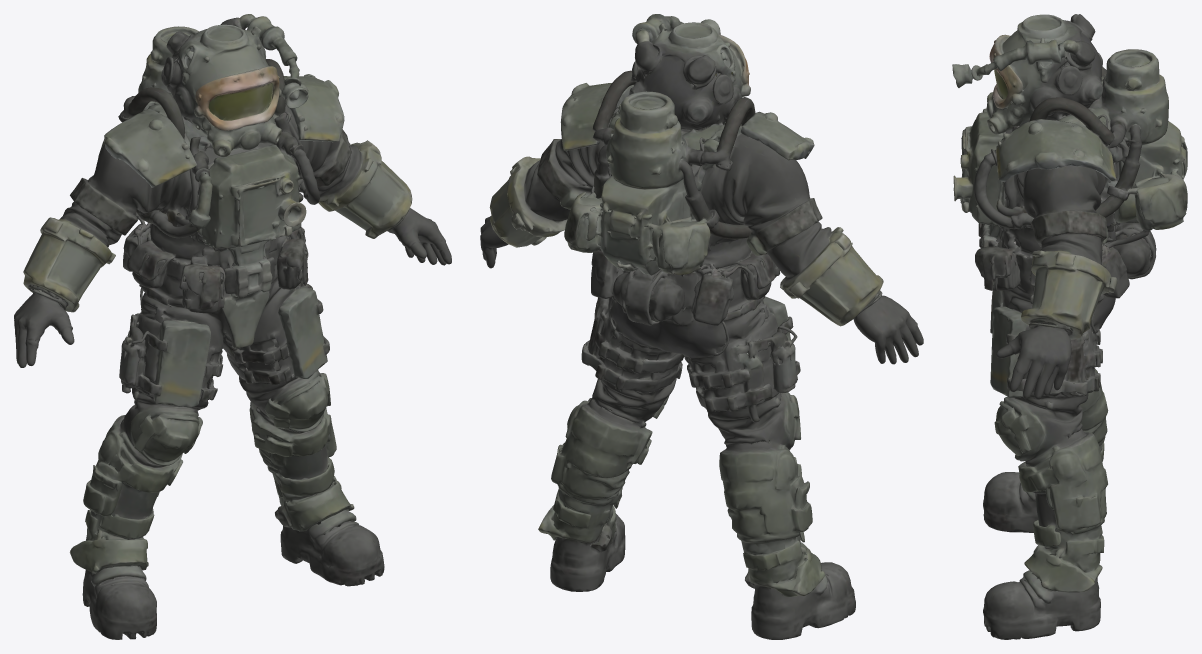
File: vanguard-trellis2-11.glb
The picture shows the model from 3 angles, left to right: view 1: azimuth 30°, elevation 25°; view 2: azimuth 150°, elevation 25°; view 3: azimuth 270°, elevation 25°; orthographic projection. The views are drawn at different scales.
Visible parts, largest first — view 1: world; view 2: world; view 3: world.
Part boxes in pixels (x1,y1,x2,y2): world: [14, 14, 451, 639]; world: [480, 14, 923, 639]; world: [952, 14, 1187, 639].
Bounding box in the file's own units: 0.7993 × 0.9986 × 0.3845.
1 material, 1 textured.
